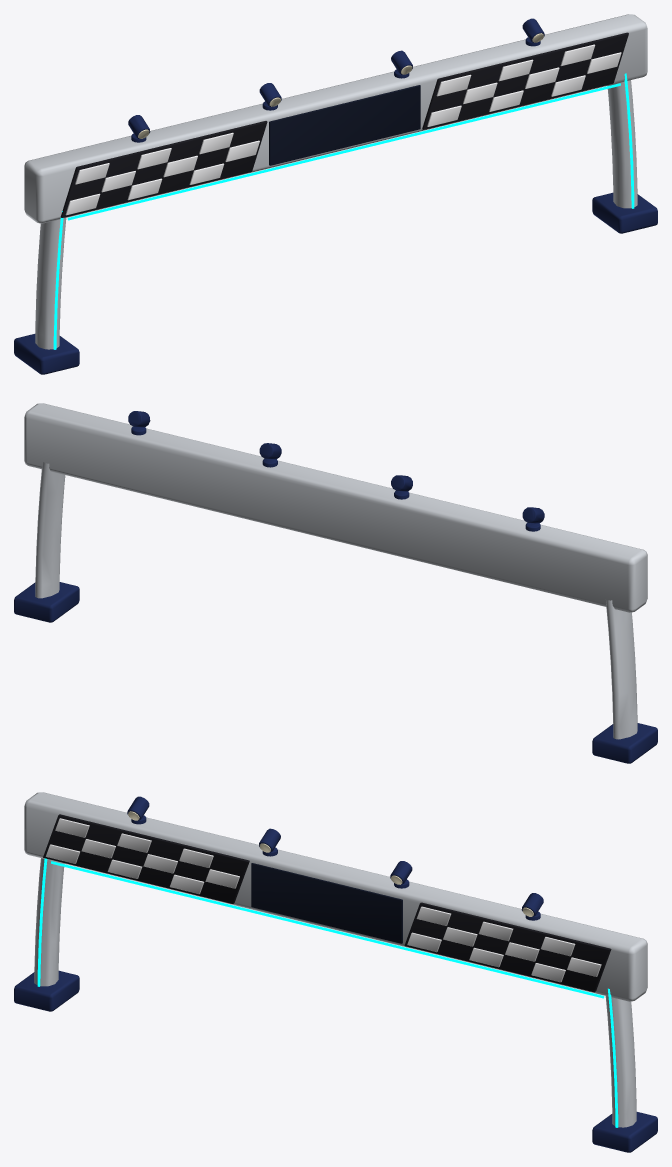
File: RaceFinishGantry.fbx
The picture shows the model from 3 angles, top to bottom: view 1: azimuth 30°, elevation 25°; view 2: azimuth 150°, elevation 25°; view 3: azimuth 330°, elevation 25°; orthographic projection.
Visible parts, largest first — view 1: RaceFinishGantry__Base, RaceFinishGantry__Checker_Black, RaceFinishGantry__Checker_White, RaceFinishGantry__Panel, RaceFinishGantry__Trim, RaceFinishGantry__Accent; view 2: RaceFinishGantry__Base, RaceFinishGantry__Trim; view 3: RaceFinishGantry__Base, RaceFinishGantry__Checker_Black, RaceFinishGantry__Checker_White, RaceFinishGantry__Panel, RaceFinishGantry__Trim, RaceFinishGantry__Accent.
Boxes of the visible parts, box(x1,y1,x2,y2) form: RaceFinishGantry__Base: box(24, 14, 647, 349); RaceFinishGantry__Checker_Black: box(60, 32, 628, 217); RaceFinishGantry__Checker_White: box(65, 44, 621, 215); RaceFinishGantry__Panel: box(269, 85, 420, 165); RaceFinishGantry__Trim: box(14, 18, 657, 374); RaceFinishGantry__Accent: box(53, 73, 634, 349); RaceFinishGantry__Base: box(24, 403, 647, 739); RaceFinishGantry__Trim: box(14, 411, 657, 763); RaceFinishGantry__Base: box(24, 792, 647, 1127); RaceFinishGantry__Checker_Black: box(43, 814, 611, 992); RaceFinishGantry__Checker_White: box(45, 818, 601, 982); RaceFinishGantry__Panel: box(251, 863, 402, 943); RaceFinishGantry__Trim: box(14, 796, 657, 1152); RaceFinishGantry__Accent: box(37, 858, 618, 1127).
Bounding box in the file's own units: 94 × 32.32 × 7.6.
